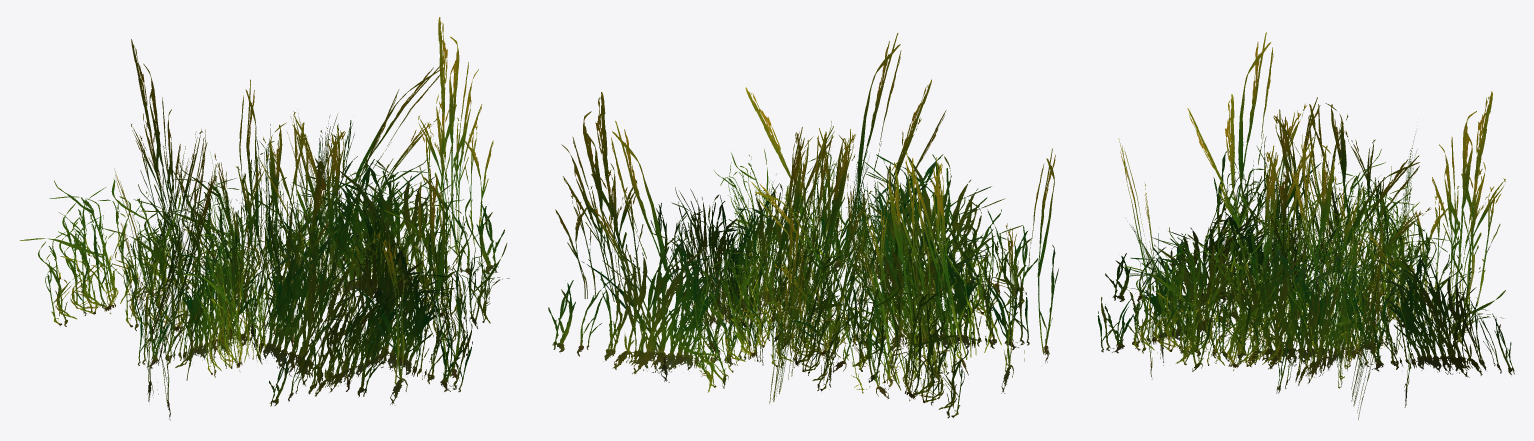
3 views of the same model, side by side, from view 1: azimuth 30°, elevation 25°; view 2: azimuth 150°, elevation 25°; view 3: azimuth 270°, elevation 25° (orthographic). The views are drawn at different scales.
Visible parts, largest first — view 1: SM_BM_WildGrass_02_LOD0; view 2: SM_BM_WildGrass_02_LOD0; view 3: SM_BM_WildGrass_02_LOD0.
Part boxes in pixels (x1,y1,x2,y2): SM_BM_WildGrass_02_LOD0: (20,17,509,420); SM_BM_WildGrass_02_LOD0: (548,33,1058,418); SM_BM_WildGrass_02_LOD0: (1097,32,1514,419).
Size of the model in its own units: 0.8425 by 0.491 by 0.7399.
1 material, 1 textured.
